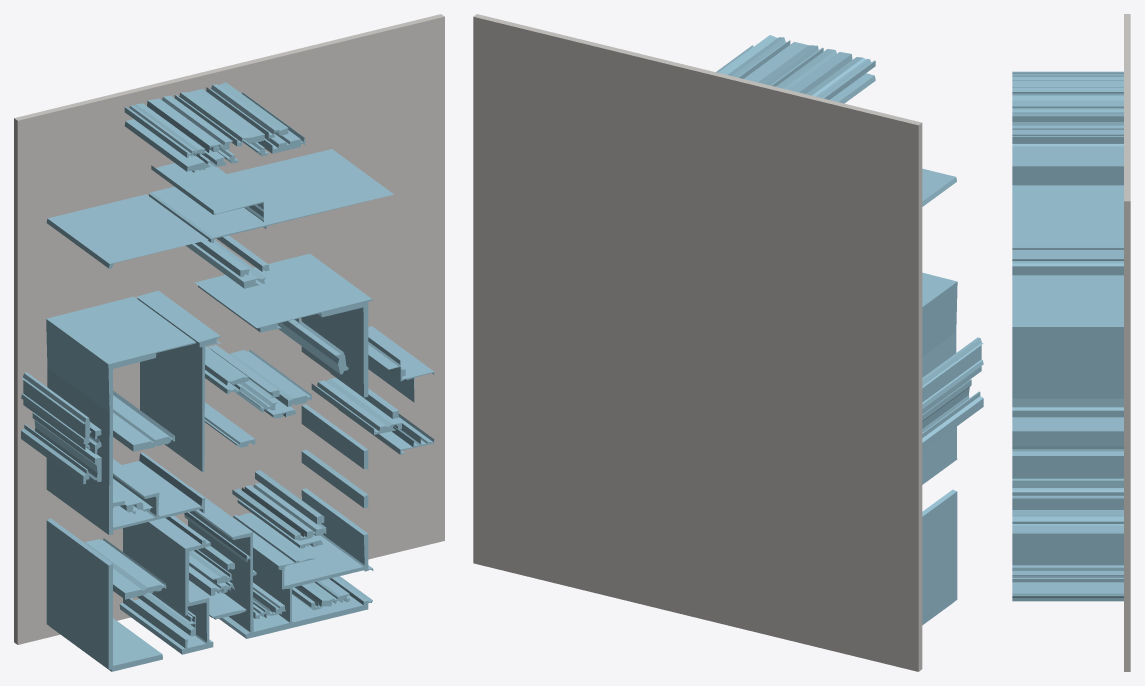
3 views of the same model, side by side, from view 1: azimuth 30°, elevation 25°; view 2: azimuth 150°, elevation 25°; view 3: azimuth 270°, elevation 25° (orthographic). The views are drawn at different scales.
Visible parts, largest first — view 1: world; view 2: world; view 3: world.
Boxes of the visible parts, box(x1,y1,x2,y2) form: world: box(14, 14, 444, 671); world: box(473, 14, 983, 671); world: box(1012, 14, 1130, 671).
Bounding box in the file's own units: 10.23 × 12 × 2.73.
